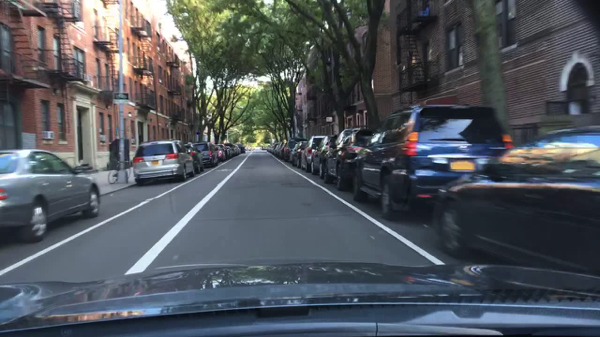bike: (107, 157, 133, 186)
car: (432, 125, 599, 274), (352, 101, 514, 221), (1, 147, 102, 242), (320, 123, 377, 192), (131, 138, 196, 184), (312, 133, 339, 177), (301, 134, 324, 177), (194, 140, 220, 168), (184, 141, 205, 173), (283, 138, 304, 166), (293, 140, 308, 169), (213, 142, 226, 161), (218, 142, 229, 161), (277, 140, 288, 159), (224, 144, 232, 158), (230, 143, 238, 156), (233, 142, 241, 154), (272, 142, 279, 155), (236, 141, 244, 152), (266, 144, 274, 151), (261, 143, 268, 150)
traffic sign: (113, 92, 128, 104)
